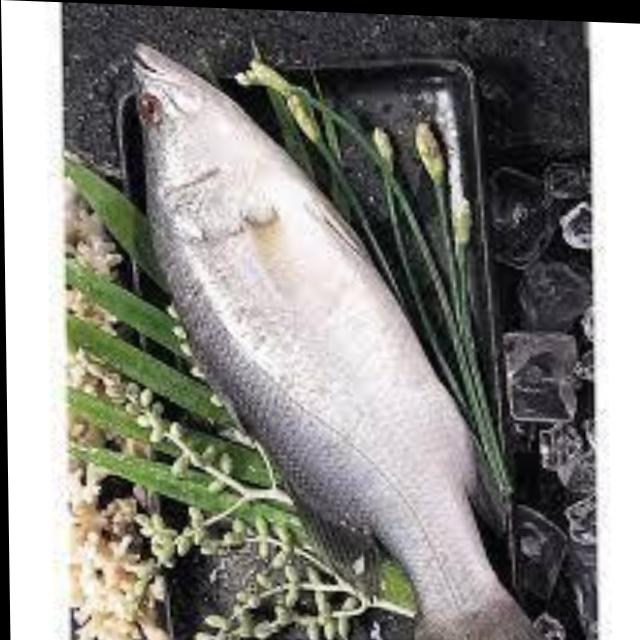Seabass: (129, 43, 547, 640)
